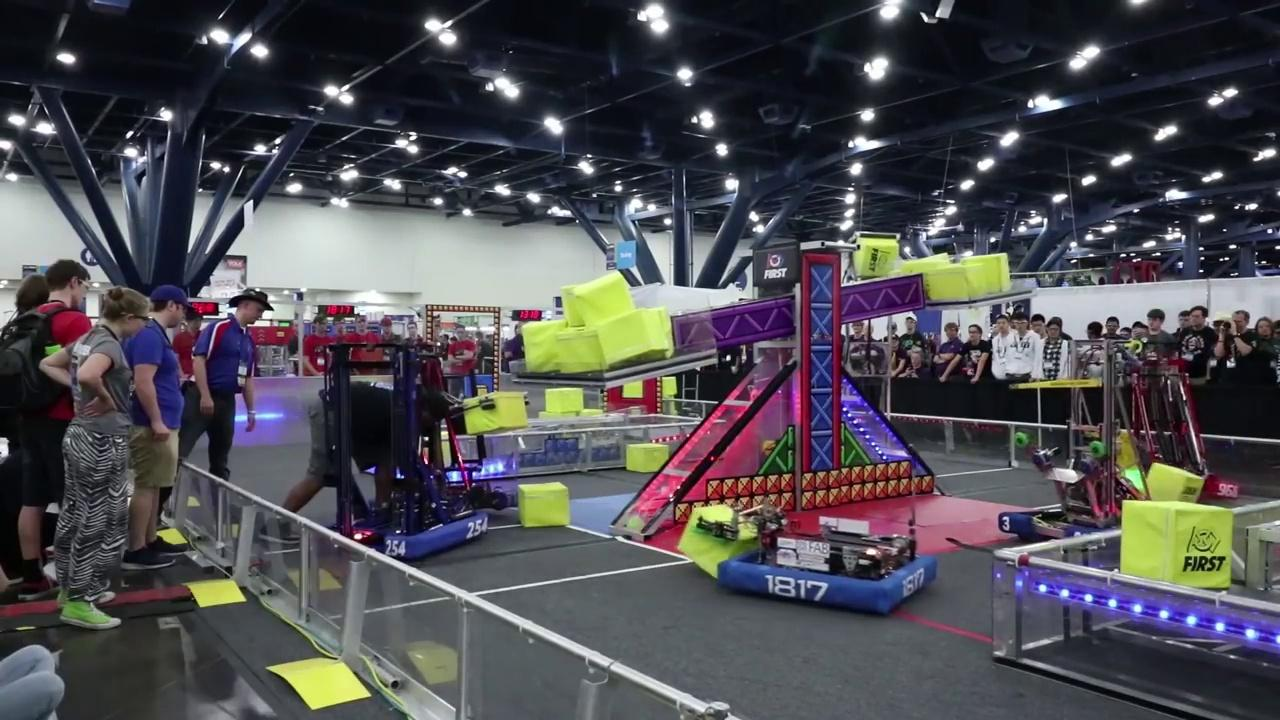robot: (301, 342, 531, 565), (993, 337, 1167, 545), (679, 498, 946, 619)
